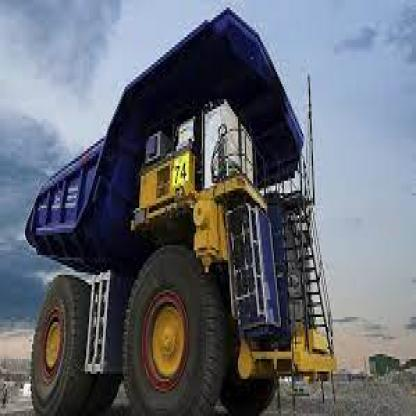dump_truck: (17, 5, 344, 406)
